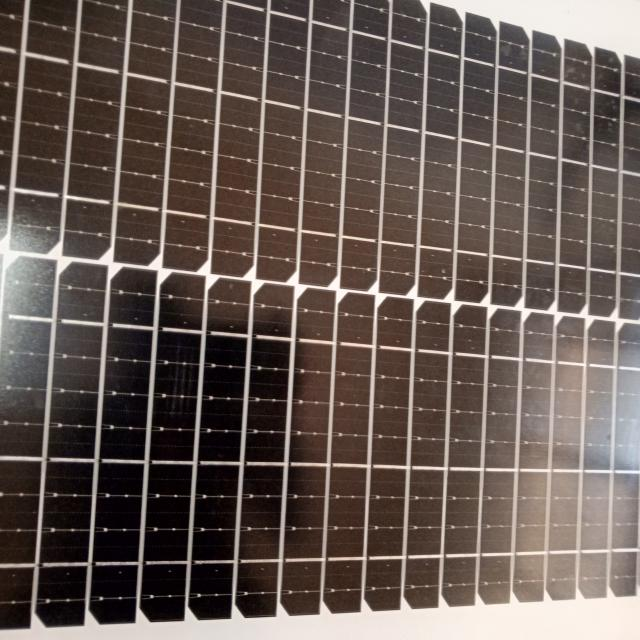Clean: (1, 2, 640, 617)
